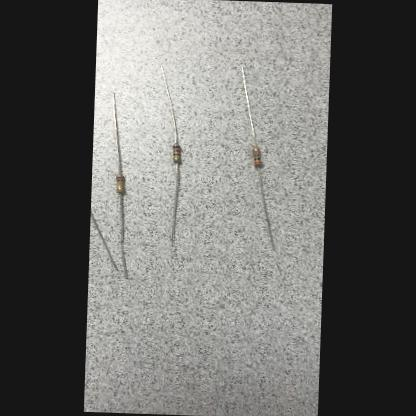resistor: (252, 147, 264, 168), (116, 174, 127, 194), (172, 143, 182, 163)
wire: (255, 168, 277, 250), (90, 210, 120, 270), (158, 64, 180, 142), (238, 66, 259, 146), (116, 193, 130, 278), (110, 93, 123, 173), (172, 164, 178, 247)
